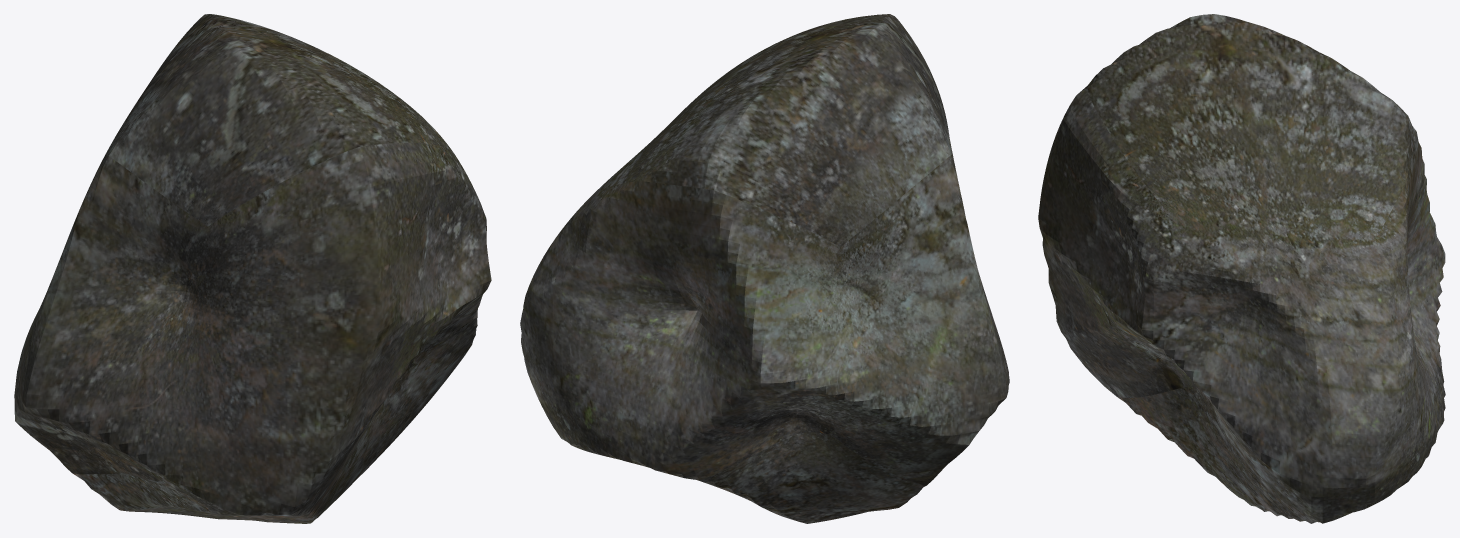
The picture shows the model from 3 angles, left to right: view 1: azimuth 30°, elevation 25°; view 2: azimuth 150°, elevation 25°; view 3: azimuth 270°, elevation 25°; orthographic projection. The views are drawn at different scales.
Visible parts, largest first — view 1: Cube; view 2: Cube; view 3: Cube.
Part boxes in pixels (x1,y1,x2,y2): Cube: [14, 14, 491, 523]; Cube: [520, 14, 1009, 523]; Cube: [1038, 14, 1445, 523].
Bounding box in the file's own units: 193 × 203 × 166.
1 material, 1 textured.
